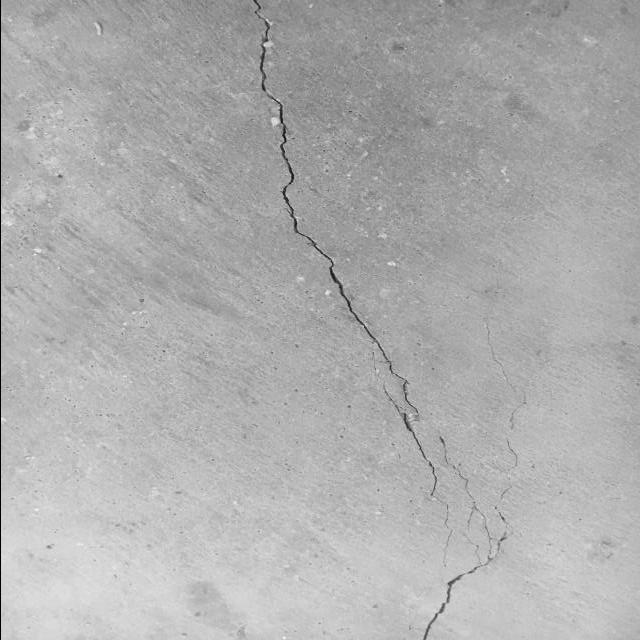SurfaceCrack: (215, 0, 506, 639)
